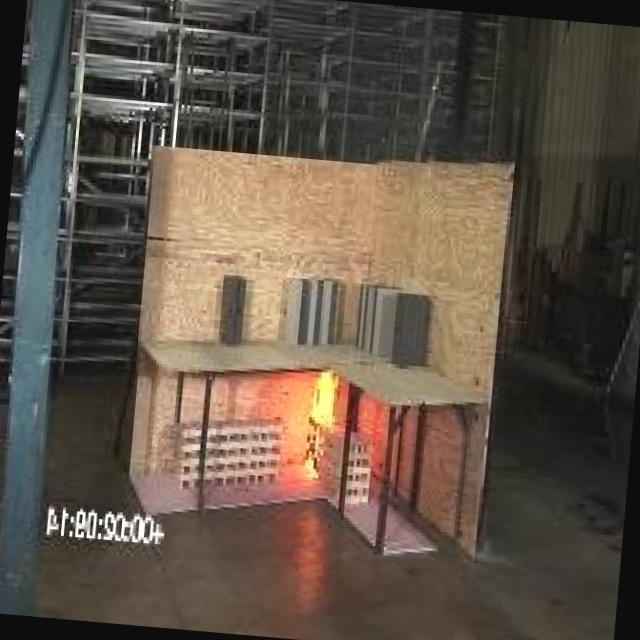fire: (282, 358, 344, 456)
